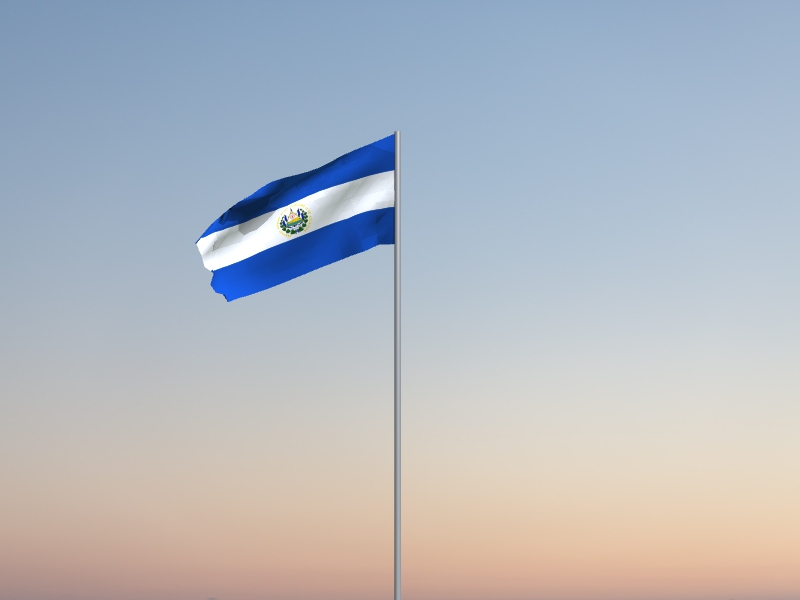sv: (195, 135, 395, 303)
